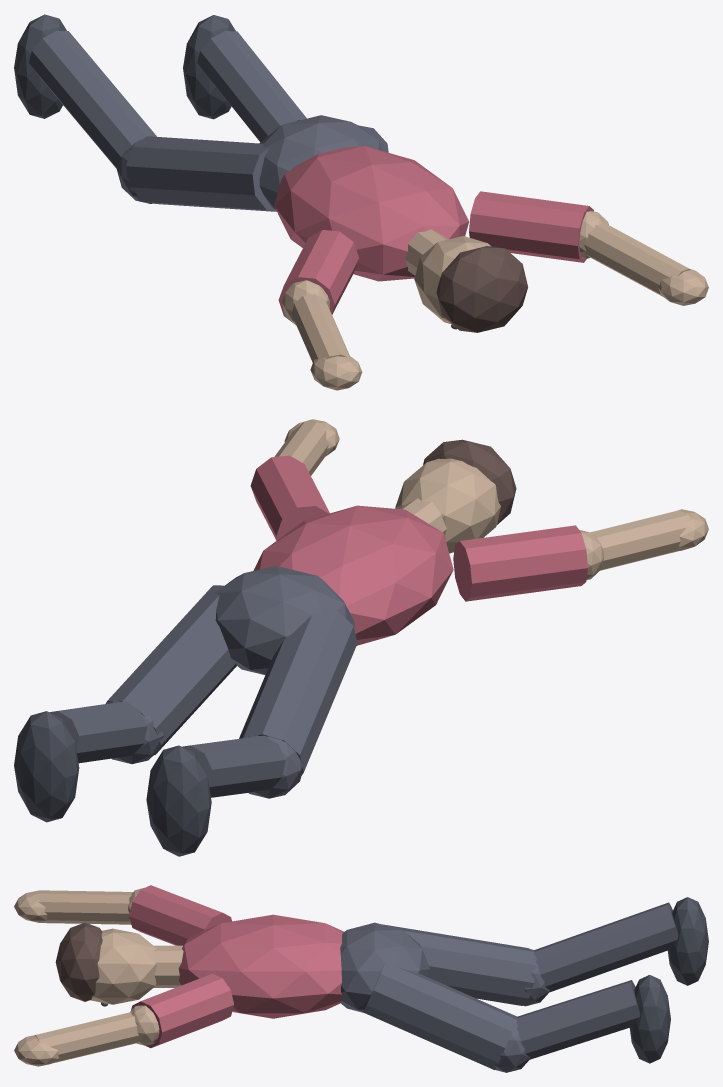
3 renders of one model, top to bottom at view 1: azimuth 30°, elevation 25°; view 2: azimuth 150°, elevation 25°; view 3: azimuth 270°, elevation 25°, orthographic. The views are drawn at different scales.
Parts seen in each view (by area): view 1: world; view 2: world; view 3: world.
Part boxes in pixels (x1=…): world: x1=14, y1=14, x2=708, y2=390; world: x1=14, y1=419, x2=708, y2=856; world: x1=14, y1=885, x2=708, y2=1072.
Size of the model in its own units: 1.17 by 0.3942 by 2.12.
